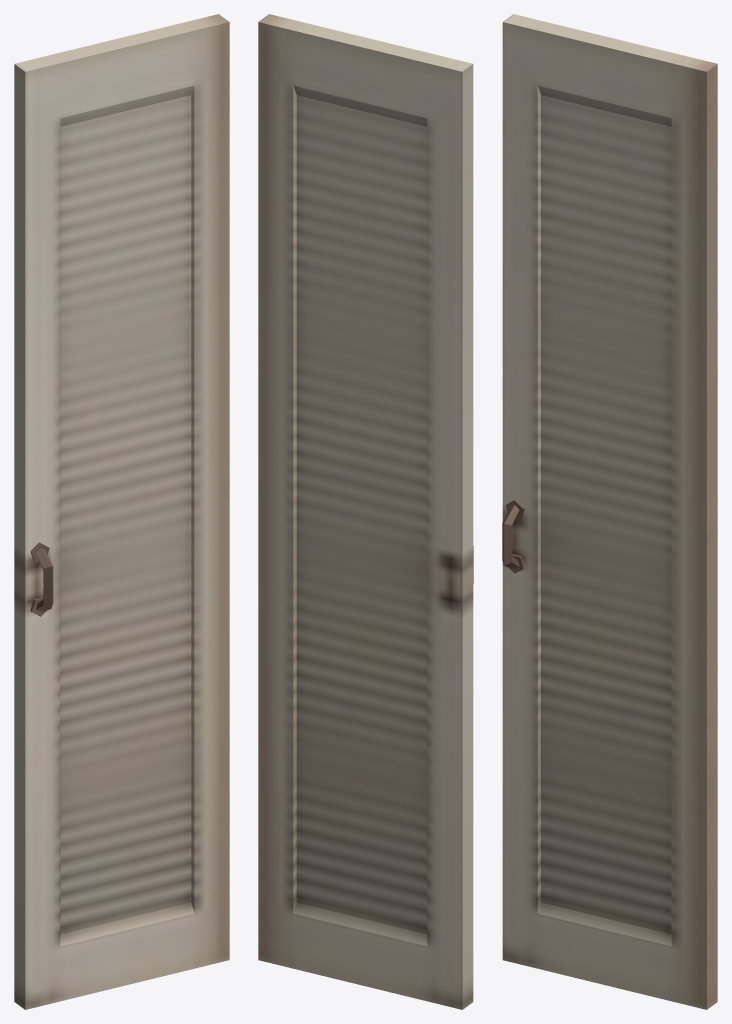
File: closet_door_1.glb
The picture shows the model from 3 angles, left to right: view 1: azimuth 30°, elevation 25°; view 2: azimuth 150°, elevation 25°; view 3: azimuth 330°, elevation 25°; orthographic projection.
Parts seen in each view (by area): view 1: Closet Door_001.001; view 2: Closet Door_001.001; view 3: Closet Door_001.001.
Part boxes in pixels (x1,y1,x2,y2): Closet Door_001.001: (14,14,229,1009); Closet Door_001.001: (258,14,473,1009); Closet Door_001.001: (502,14,717,1009).
Bounding box in the file's own units: 0.5085 × 2.23 × 0.0997.
Materials: 1 (1 with a texture image).
